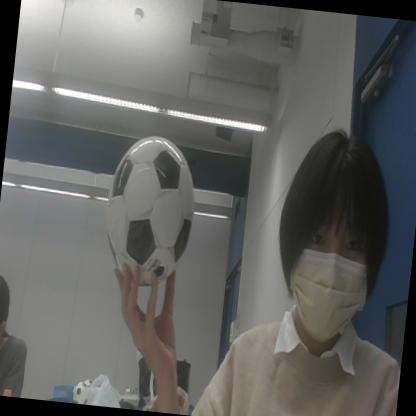ball: (101, 132, 200, 274)
